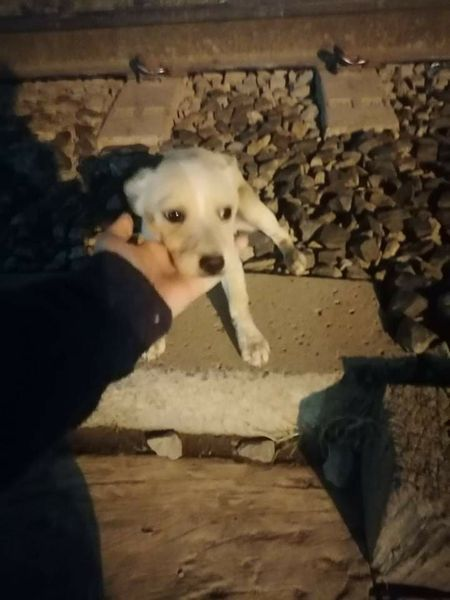dog: (108, 132, 318, 392)
